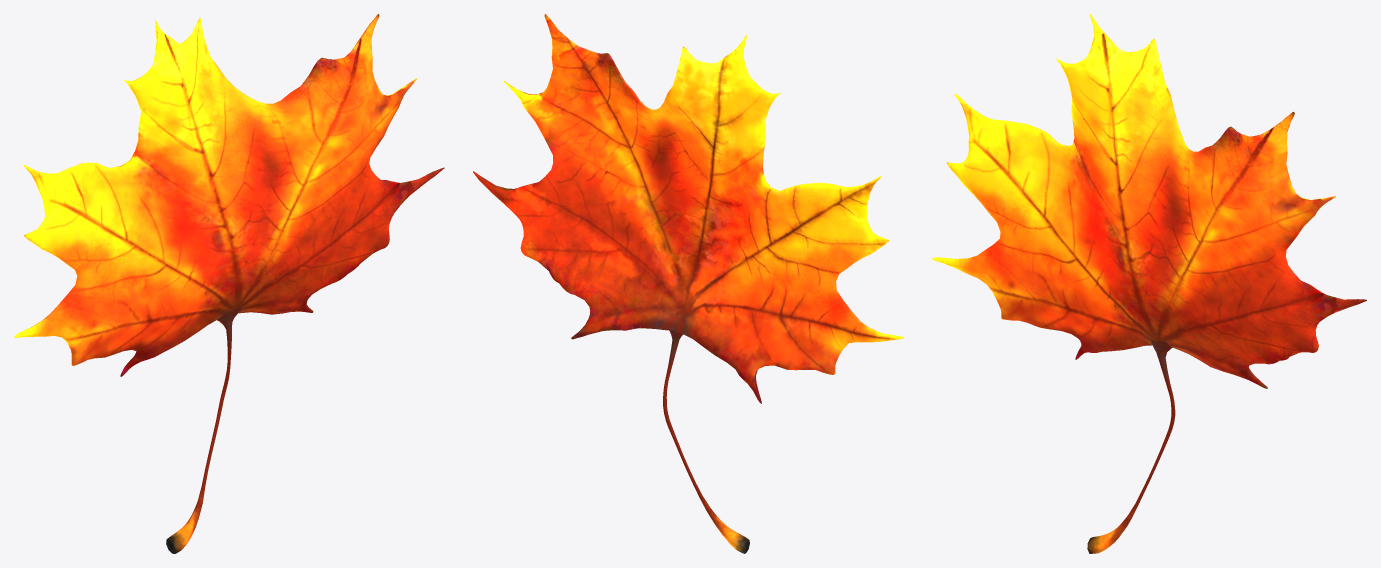
The model's file is Orange_Fall_Leaves_optimized.glb.
The picture shows the model from 3 angles, left to right: view 1: azimuth 30°, elevation 25°; view 2: azimuth 150°, elevation 25°; view 3: azimuth 330°, elevation 25°; orthographic projection.
Visible parts, largest first — view 1: root; view 2: root; view 3: root.
Boxes of the visible parts, x1,y1,x2,y2 form: root: [14, 14, 444, 553]; root: [473, 14, 903, 553]; root: [932, 14, 1366, 553].
Size of the model in its own units: 0.0398 by 0.0467 by 0.00517.
Materials: 1 (1 with a texture image).
